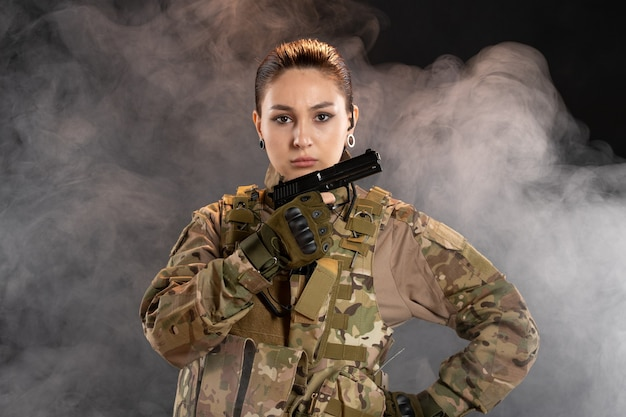gun: (269, 147, 384, 211)
